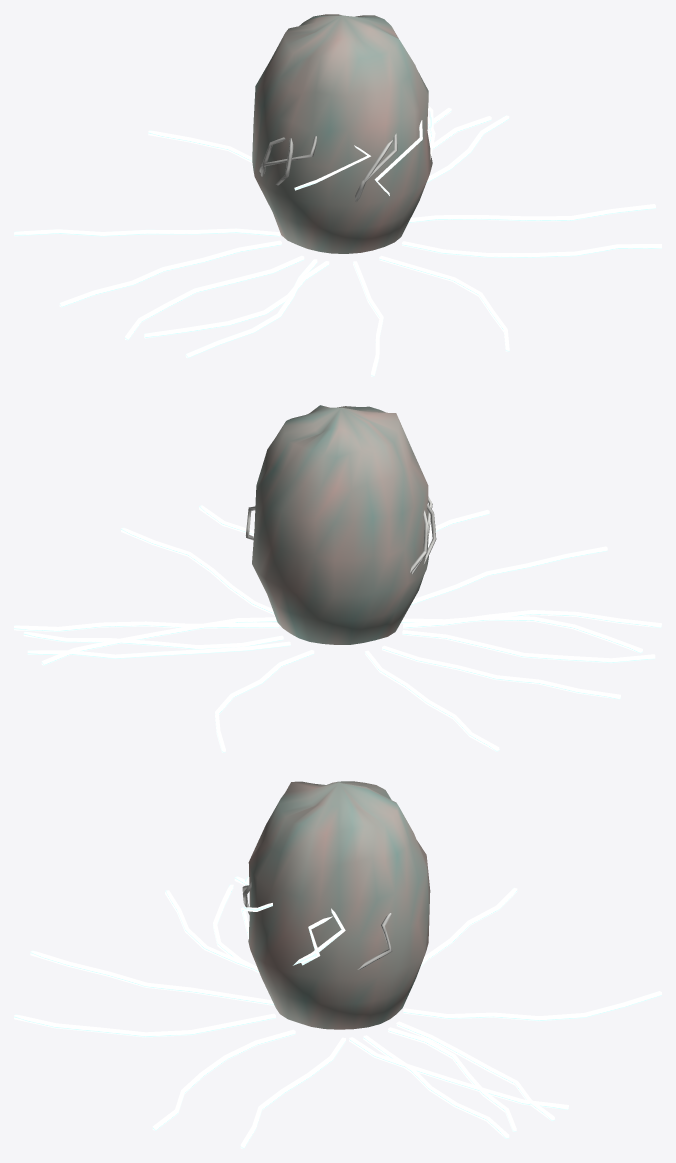
The model's file is cocoon.glb.
3 renders of one model, top to bottom at view 1: azimuth 30°, elevation 25°; view 2: azimuth 150°, elevation 25°; view 3: azimuth 270°, elevation 25°, orthographic. The views are drawn at different scales.
Parts seen in each view (by area): view 1: Cocoon; view 2: Cocoon; view 3: Cocoon.
Boxes of the visible parts, x1,y1,x2,y2 form: Cocoon: [14, 14, 661, 376]; Cocoon: [14, 405, 661, 752]; Cocoon: [14, 781, 661, 1148].
Bounding box in the file's own units: 3.54 × 1.4 × 3.51.
